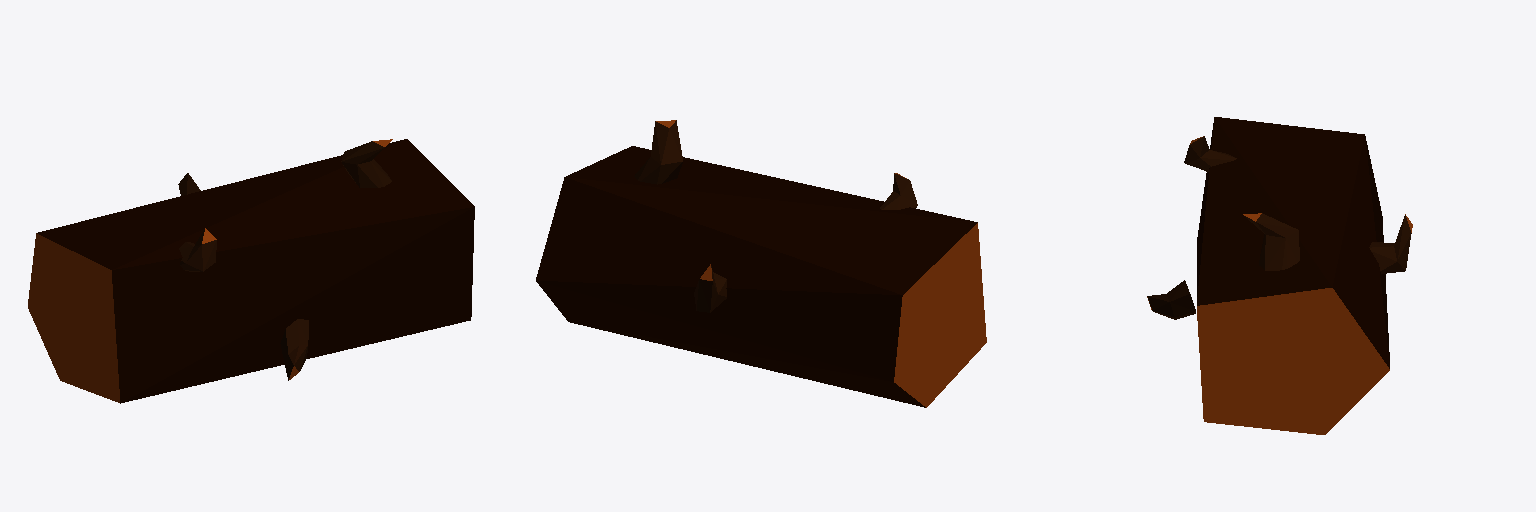
File: rond1_LOD2.obj
3 renders of one model, left to right at view 1: azimuth 30°, elevation 25°; view 2: azimuth 150°, elevation 25°; view 3: azimuth 270°, elevation 25°, orthographic.
Visible parts, largest first — view 1: Tronc_Cylinder, branches_Cylinder.001; view 2: Tronc_Cylinder, branches_Cylinder.001; view 3: Tronc_Cylinder, branches_Cylinder.001.
Part boxes in pixels (x1,y1,x2,y2): Tronc_Cylinder: (28,139,474,403); branches_Cylinder.001: (178,139,392,380); Tronc_Cylinder: (536,146,986,407); branches_Cylinder.001: (634,120,917,312); Tronc_Cylinder: (1197,117,1389,434); branches_Cylinder.001: (1147,136,1412,319).
Size of the model in its own units: 3.96 by 2.03 by 2.57.